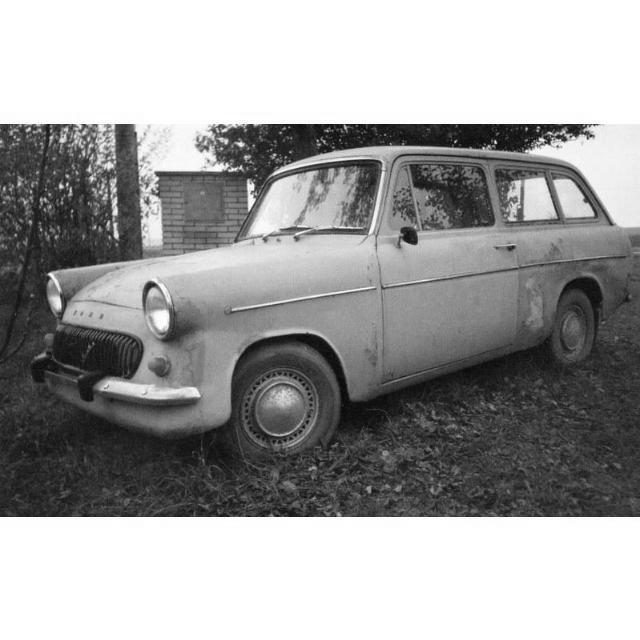doorouter-dent: (375, 249, 489, 369)
fender-dent: (232, 270, 393, 398)
quaterpanel-dent: (508, 222, 628, 315)
